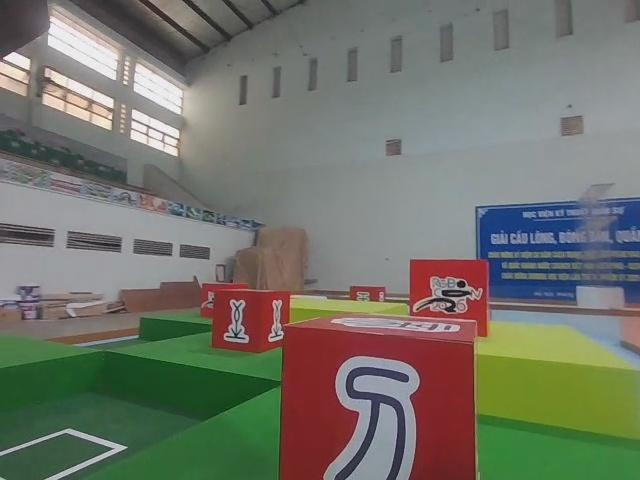R1: (406, 257, 493, 341)
R2 Fake: (276, 313, 479, 480)
R2 Real: (209, 287, 292, 356)
